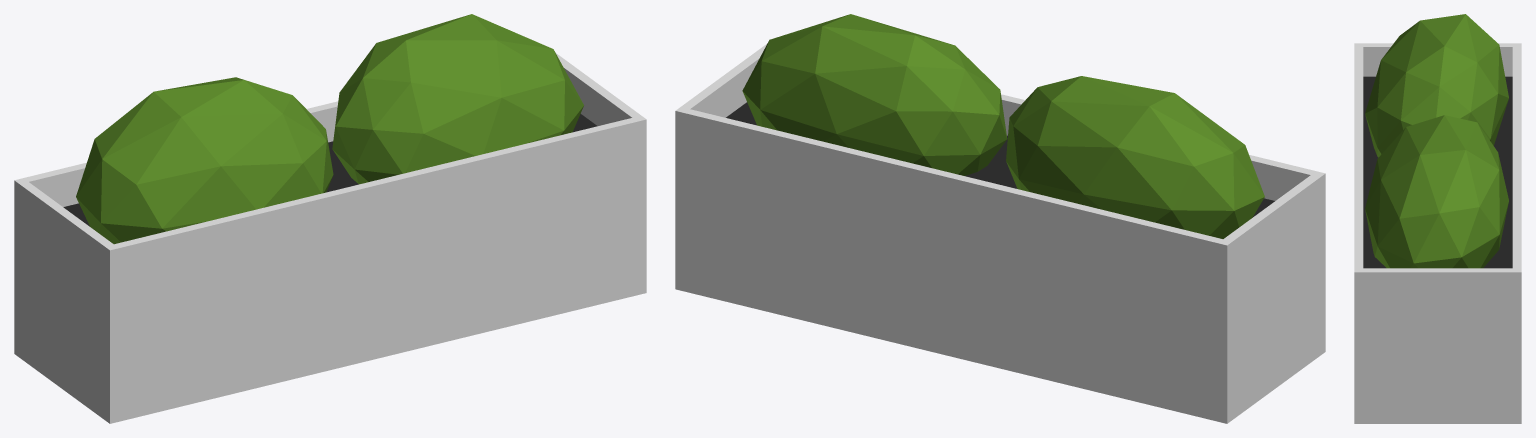
File: Planter_3.fbx
3 views of the same model, side by side, from view 1: azimuth 30°, elevation 25°; view 2: azimuth 150°, elevation 25°; view 3: azimuth 270°, elevation 25° (orthographic). The views are drawn at different scales.
Visible parts, largest first — view 1: Planter_3; view 2: Planter_3; view 3: Planter_3.
Part boxes in pixels (x1,y1,x2,y2): Planter_3: (14,14,646,423); Planter_3: (675,14,1325,423); Planter_3: (1354,14,1521,423).
Size of the model in its own units: 3.15 by 1.46 by 0.9746.
